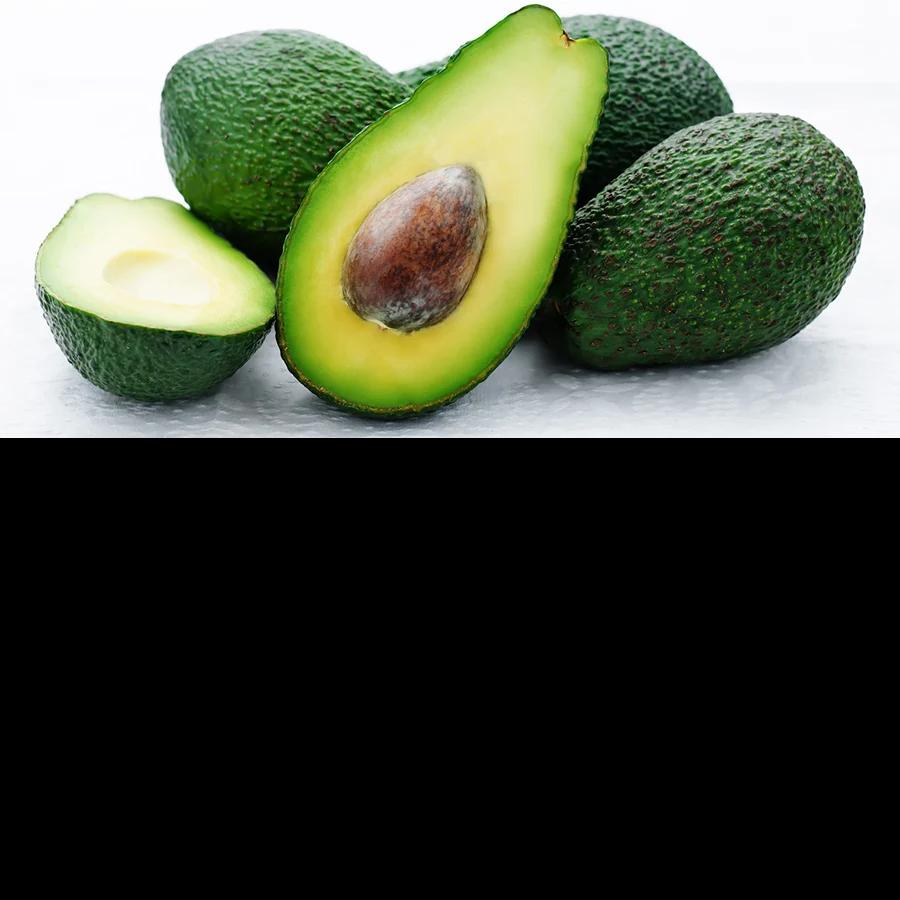unripe: (535, 112, 865, 375), (390, 14, 734, 210), (161, 29, 417, 282)
